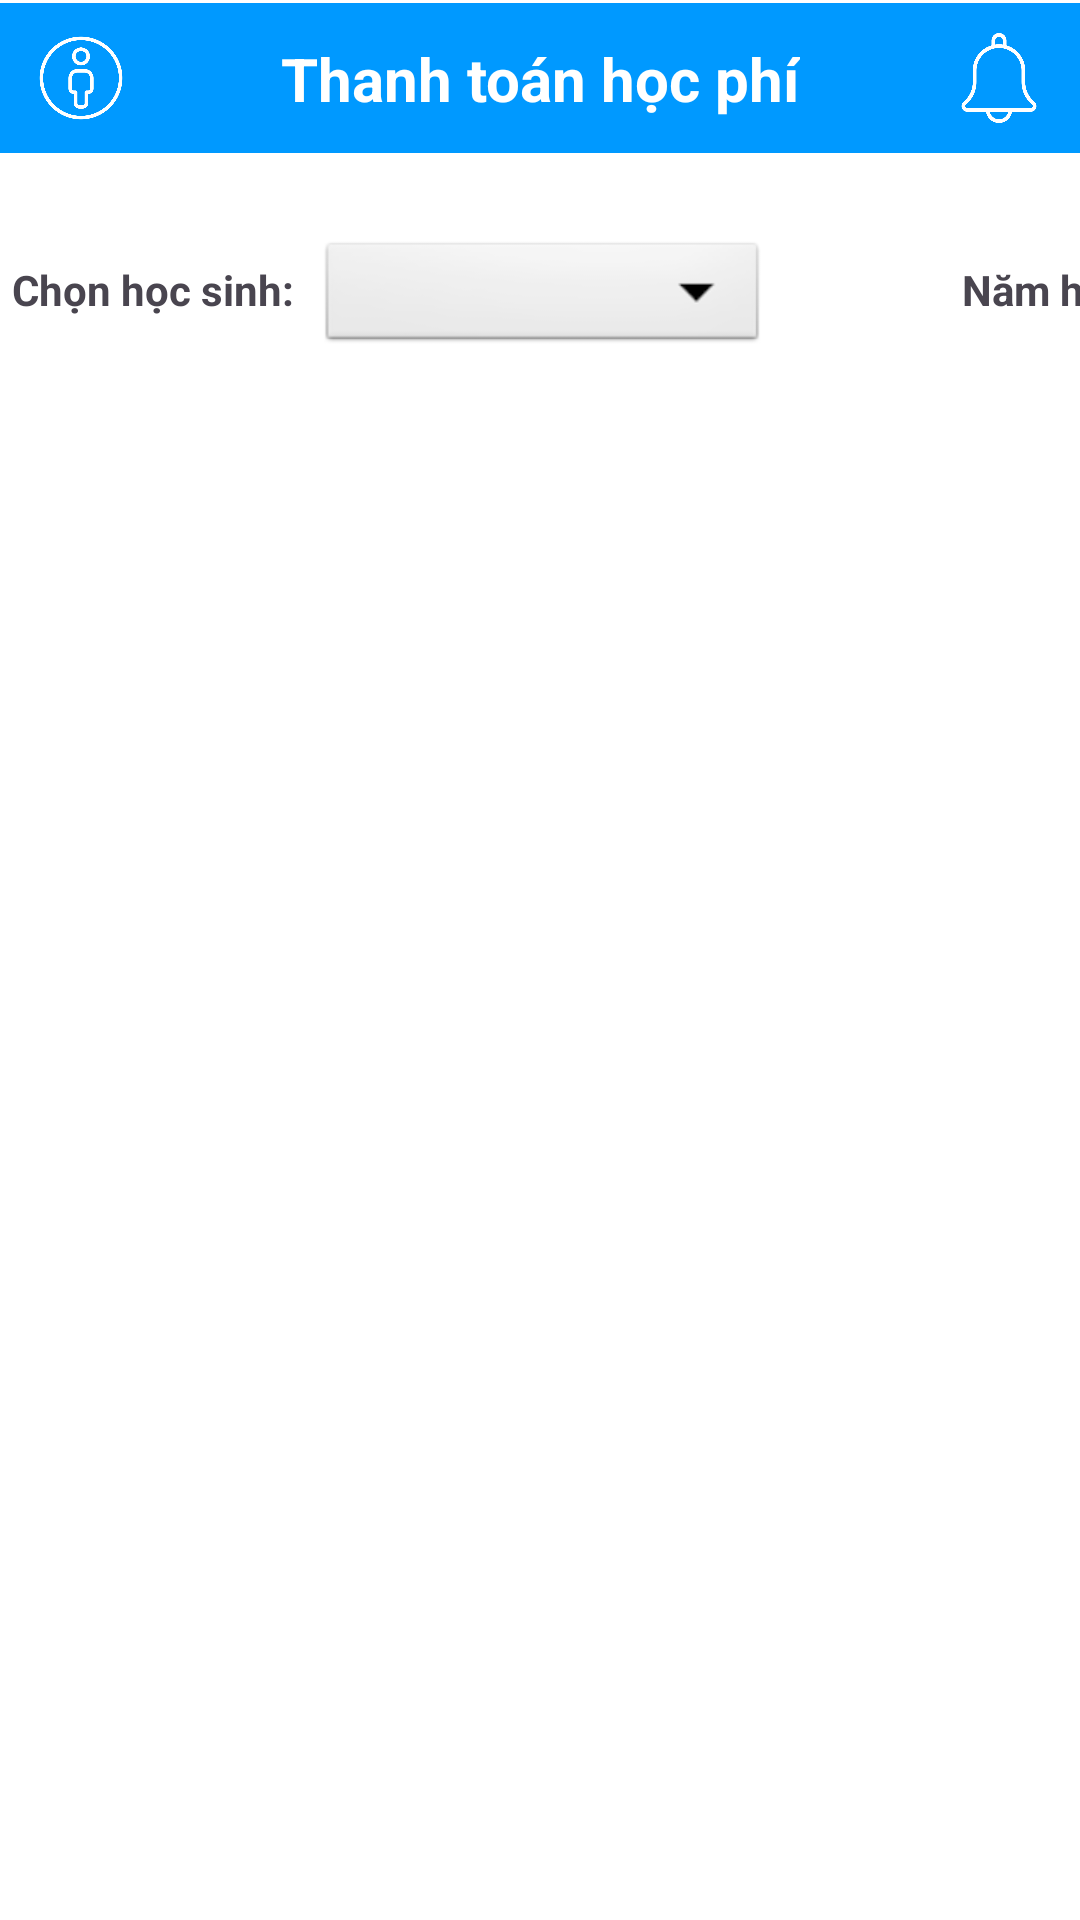

Where to tap for icons on this 1080×1920 app screen, as [x,y]:
bell: [999,78]
